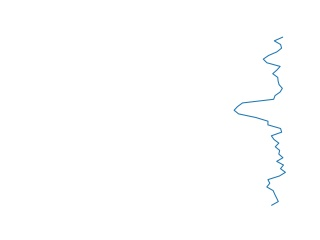interdistributaryEstuary: (230, 36, 295, 205)
